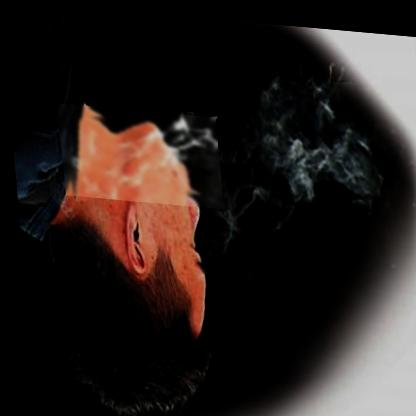smoke: (249, 72, 378, 206), (56, 102, 220, 205)
